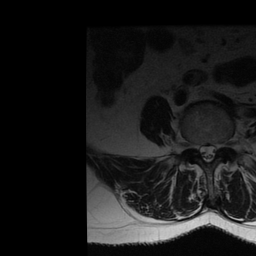CCS_normal: (204, 137, 211, 168)
LFS_stenosis: (219, 131, 226, 156)
LLS_normal: (211, 136, 219, 164)
RFS_stenosis: (189, 132, 197, 156)
RLS_normal: (196, 135, 204, 162)
